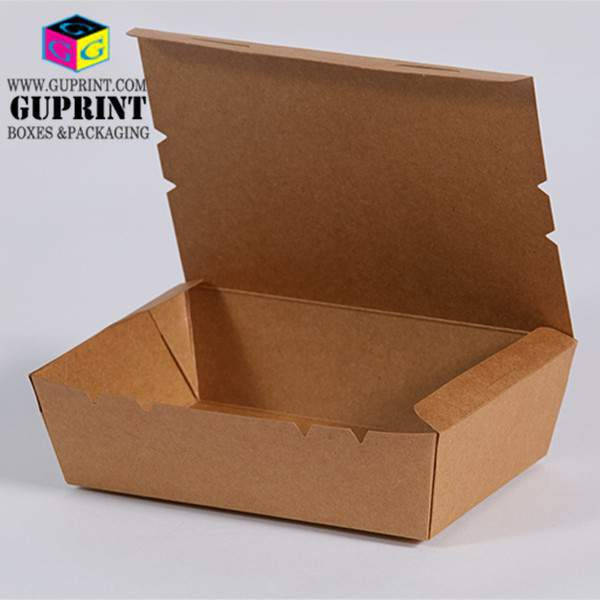Rec_Paper: (32, 1, 586, 560)
